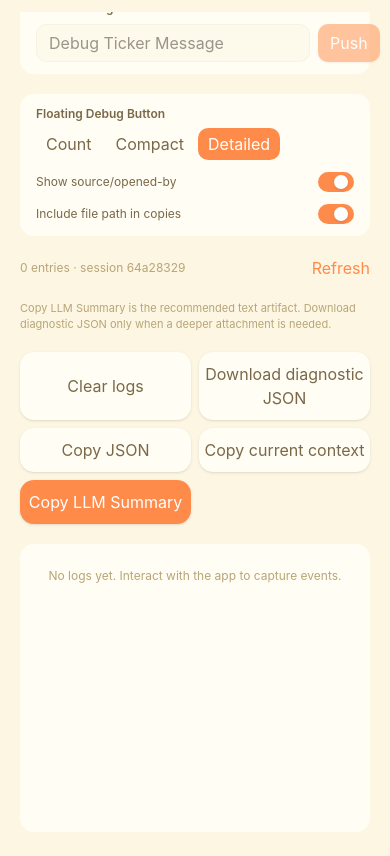
DebugPanel › copies current context
This screenshot has width=390, height=856.
(page scrolled)
Click the button "Copy current context" at {"x": 284, "y": 450}, box [199, 428, 370, 472]
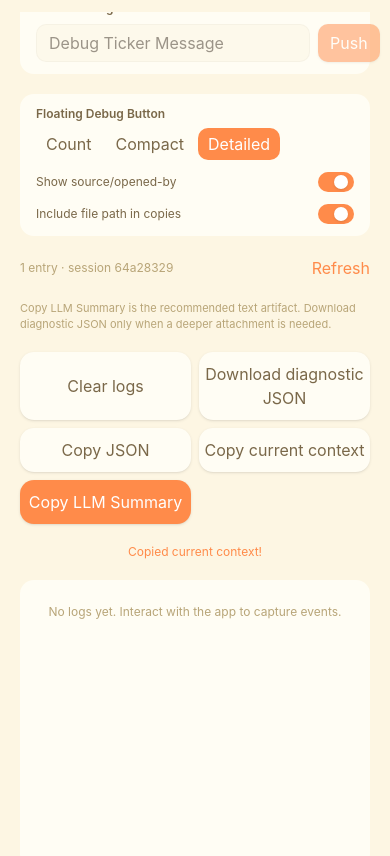
Expected: the message shows "Copied current context", [128, 544, 262, 559]
